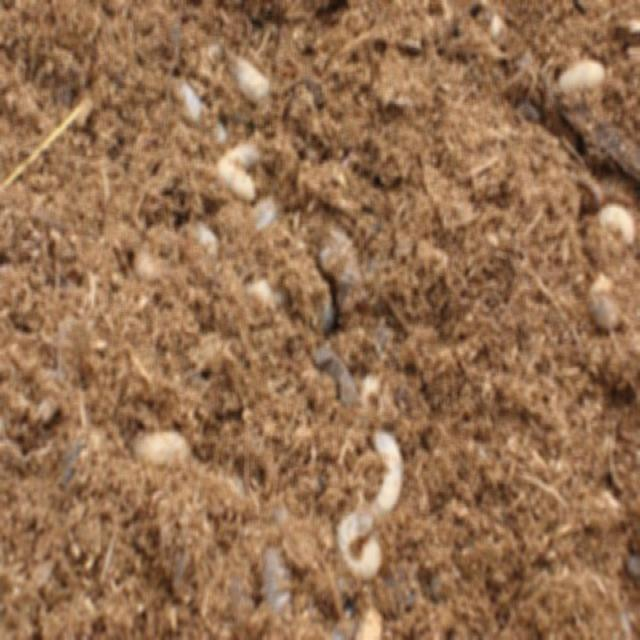grub: (341, 427, 424, 587), (130, 410, 196, 469), (219, 133, 266, 213), (255, 544, 299, 626), (230, 43, 274, 111), (557, 54, 616, 100)
